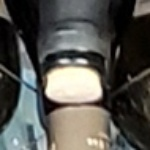bottle: (21, 31, 130, 118)
